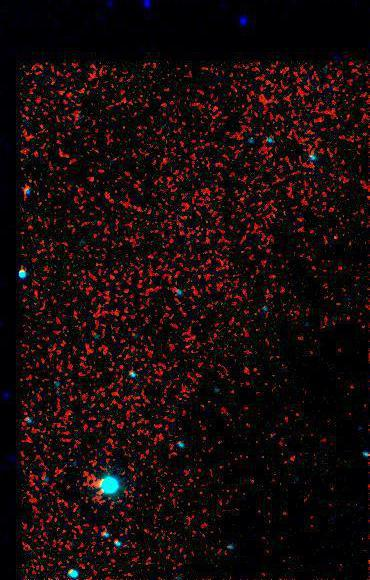star: (318, 221, 348, 251)
